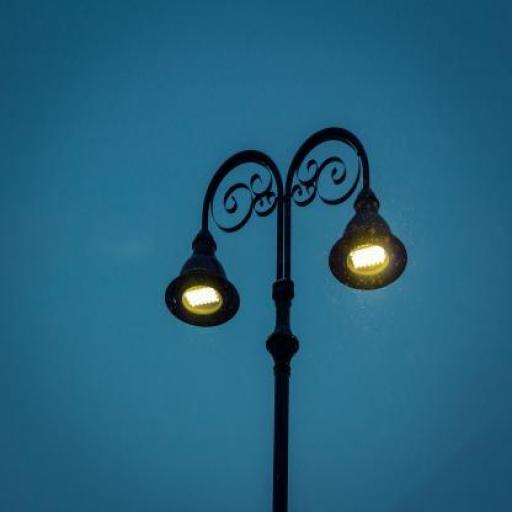street light: (164, 124, 408, 511)
